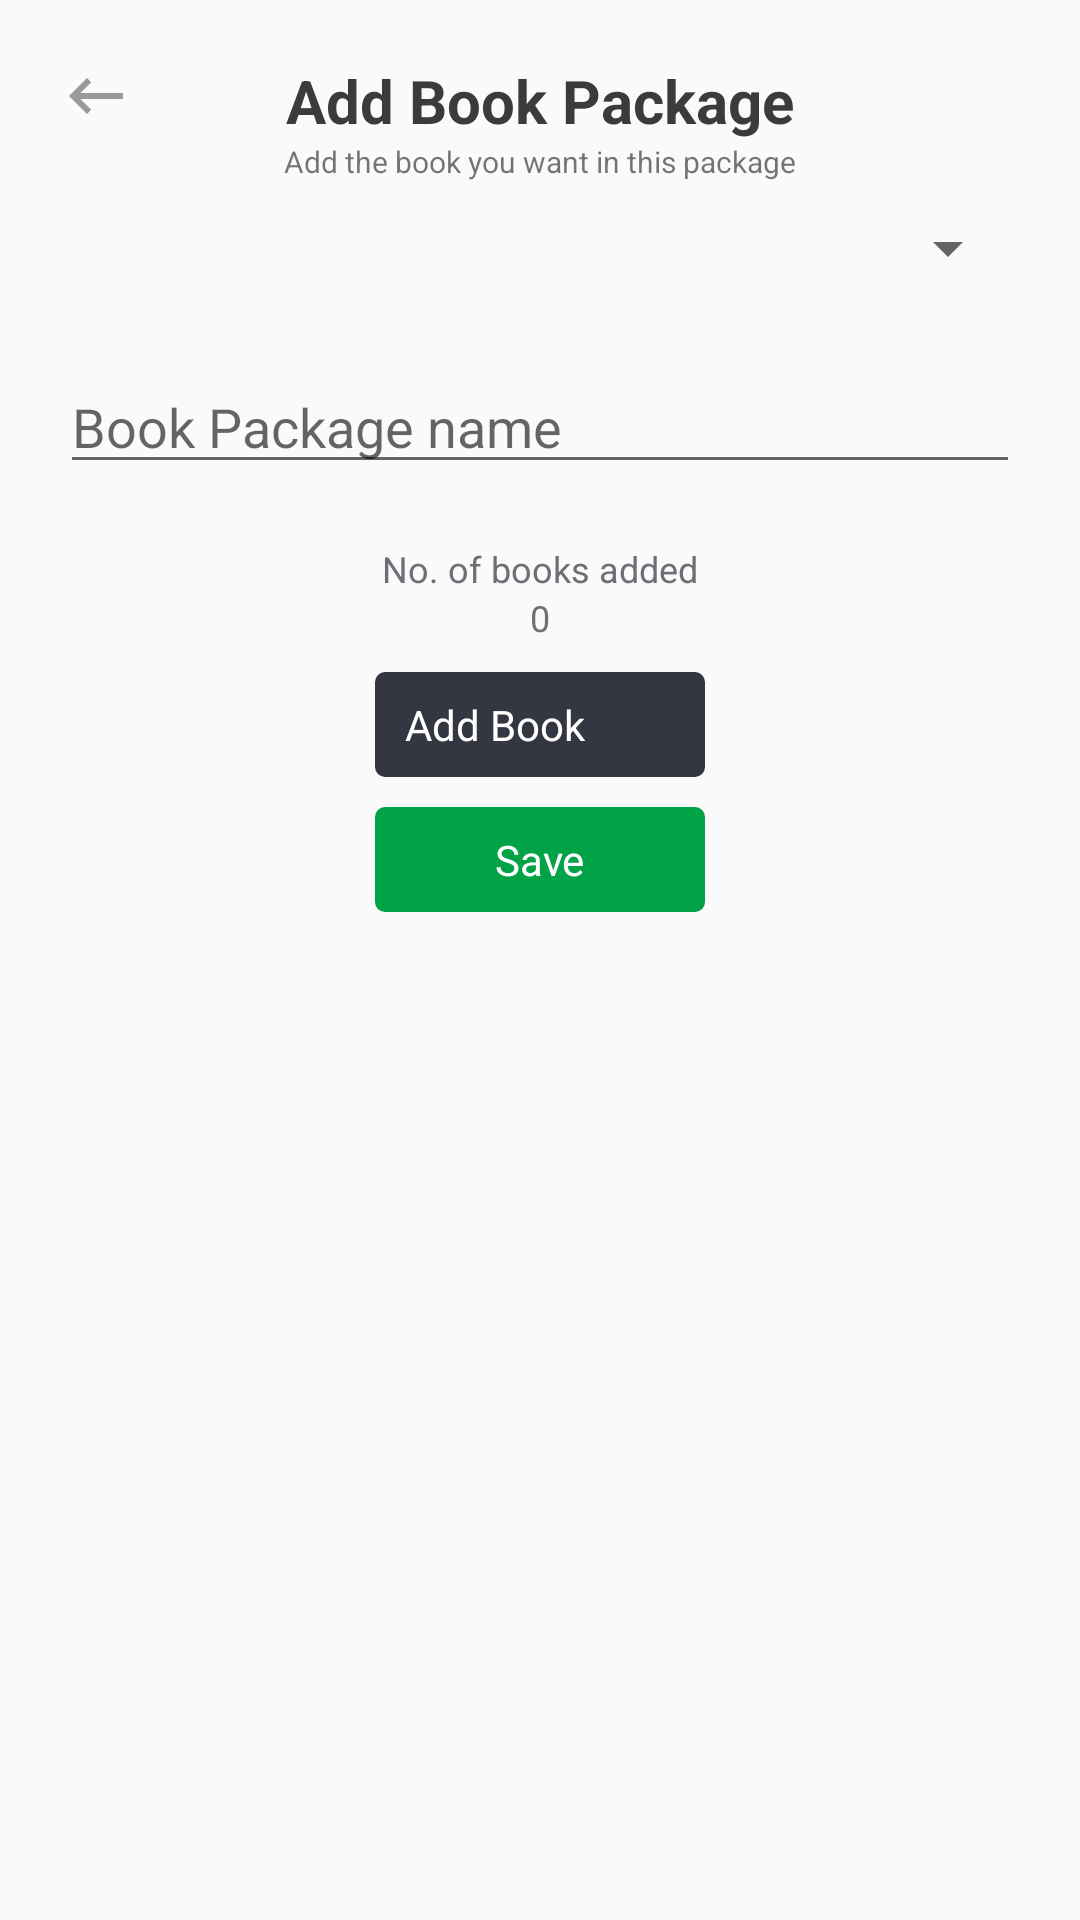

Screen size 1080 x 1920. Icon name, then its center in pixels as (x=x, y=y):
keyboard backspace: (x=96, y=96)
